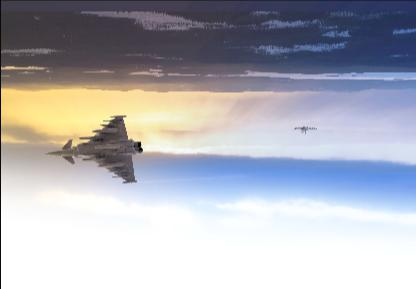E2: (44, 115, 142, 182), (294, 126, 316, 136)
